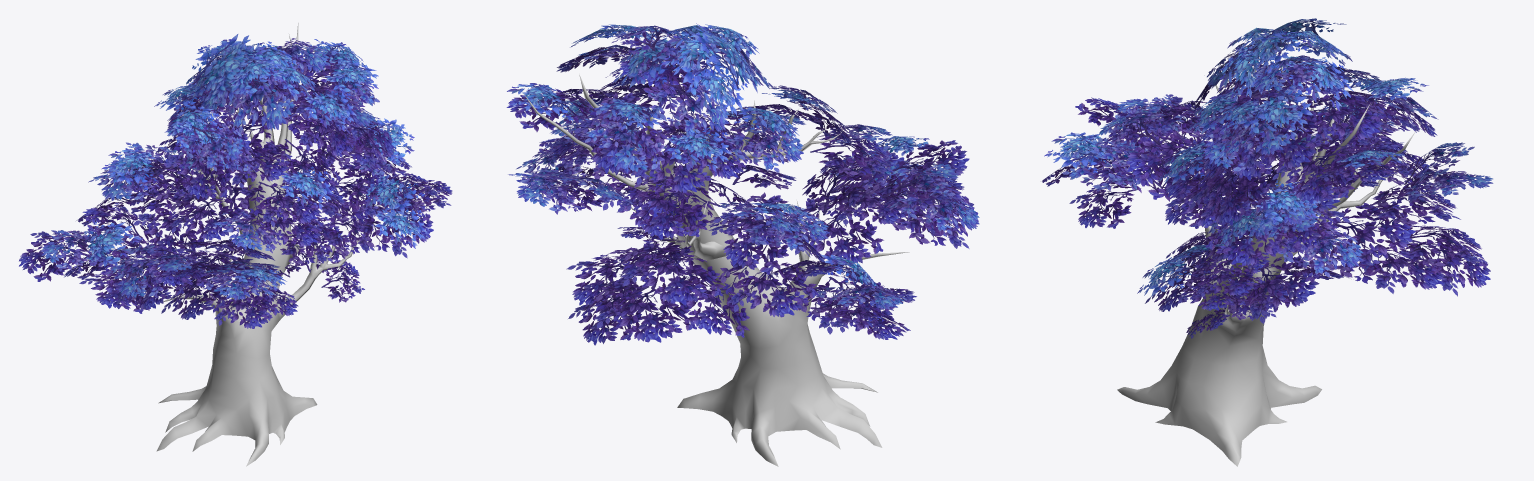
The model's file is zhiwu_01.fbx.
3 renders of one model, left to right at view 1: azimuth 30°, elevation 25°; view 2: azimuth 150°, elevation 25°; view 3: azimuth 270°, elevation 25°, orthographic. The views are drawn at different scales.
Parts seen in each view (by area): view 1: zhiwu_01_01, zhiwu_01_02; view 2: zhiwu_01_01, zhiwu_01_02; view 3: zhiwu_01_01, zhiwu_01_02.
Part boxes in pixels (x1=…): zhiwu_01_01: x1=19, y1=34, x2=452, y2=328; zhiwu_01_02: x1=156, y1=23, x2=359, y2=466; zhiwu_01_01: x1=506, y1=23, x2=979, y2=345; zhiwu_01_02: x1=523, y1=74, x2=909, y2=466; zhiwu_01_01: x1=1042, y1=18, x2=1493, y2=338; zhiwu_01_02: x1=1117, y1=63, x2=1416, y2=466.
Size of the model in its own units: 2776 by 2536 by 2580.
